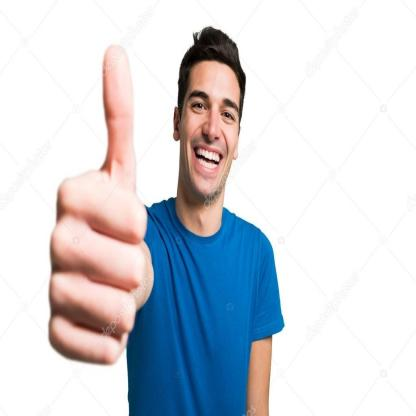Thumbs-Up: (42, 34, 168, 360)
